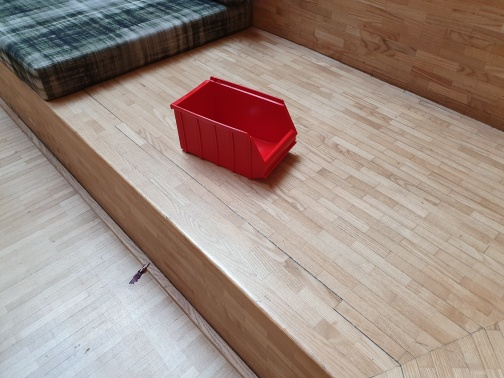tray_left: (170, 102, 267, 181)
